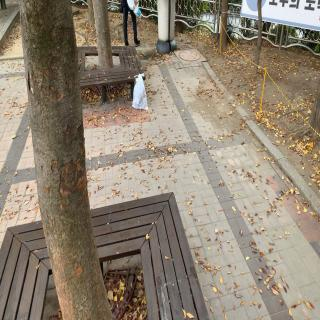Garbage: (130, 69, 151, 113)
